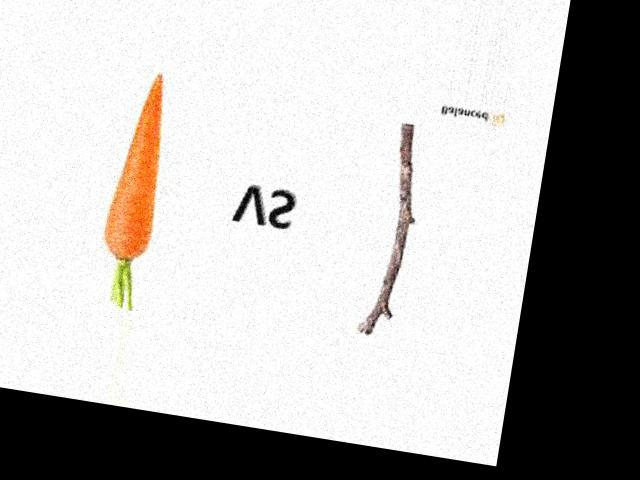carrot: (91, 62, 190, 270)
